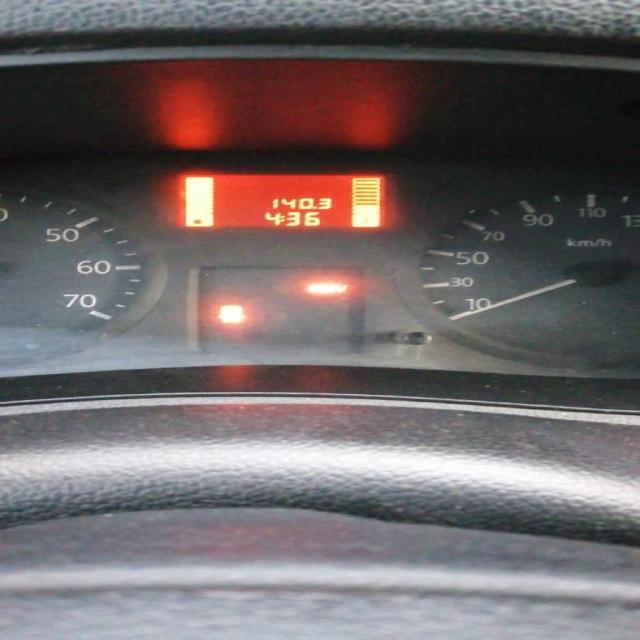odometer: (172, 170, 394, 230)
